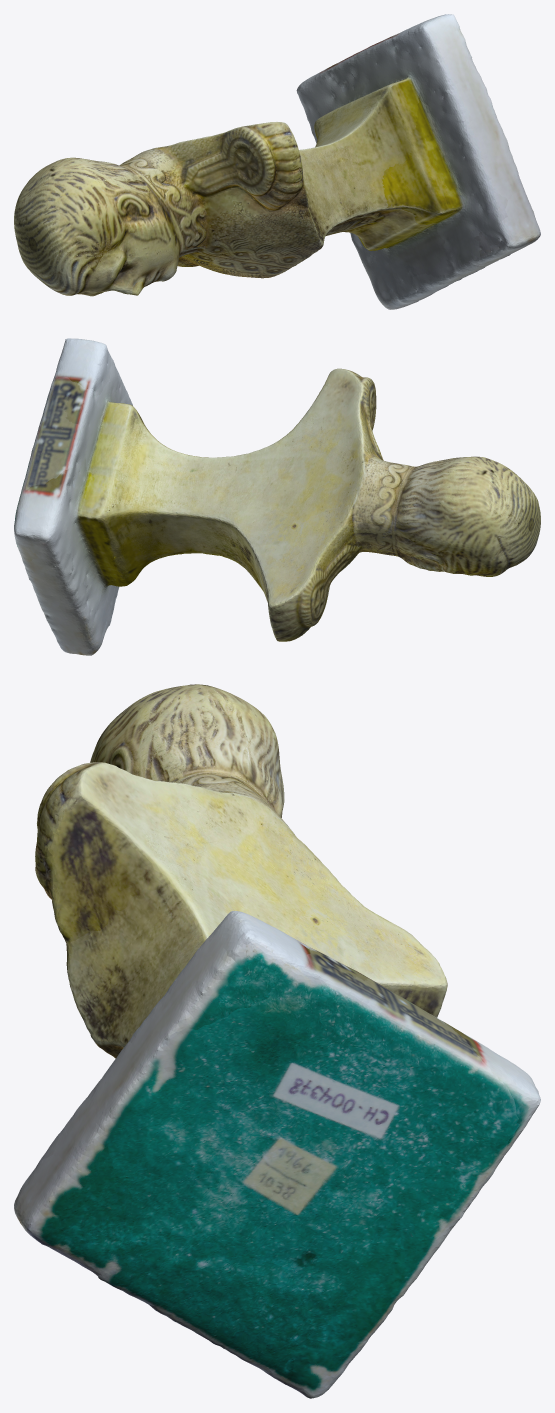
File: busto.fbx
3 views of the same model, one above another, from view 1: azimuth 30°, elevation 25°; view 2: azimuth 150°, elevation 25°; view 3: azimuth 270°, elevation 25° (orthographic). The views are drawn at different scales.
Parts seen in each view (by area): view 1: Model; view 2: Model; view 3: Model.
Part boxes in pixels (x1=…): Model: x1=14, y1=14, x2=540, y2=309; Model: x1=14, y1=338, x2=540, y2=655; Model: x1=14, y1=684, x2=540, y2=1398.
Size of the model in its own units: 16.52 by 10.07 by 10.13.
